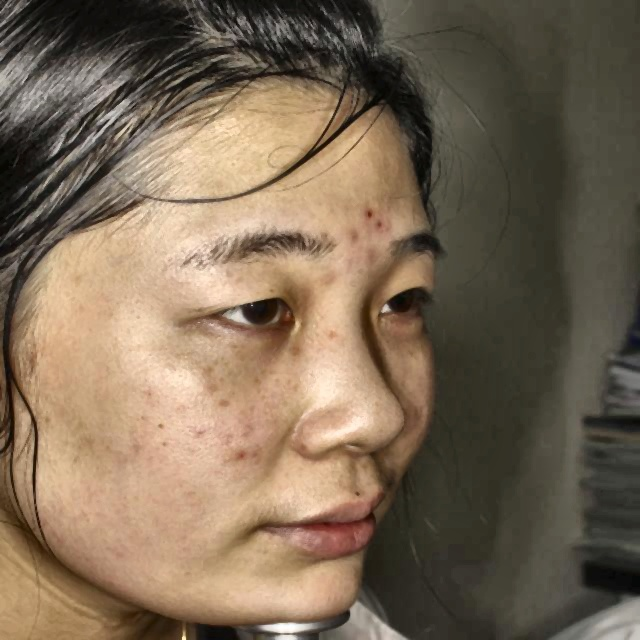comedone: (226, 445, 259, 468), (344, 225, 366, 248)
